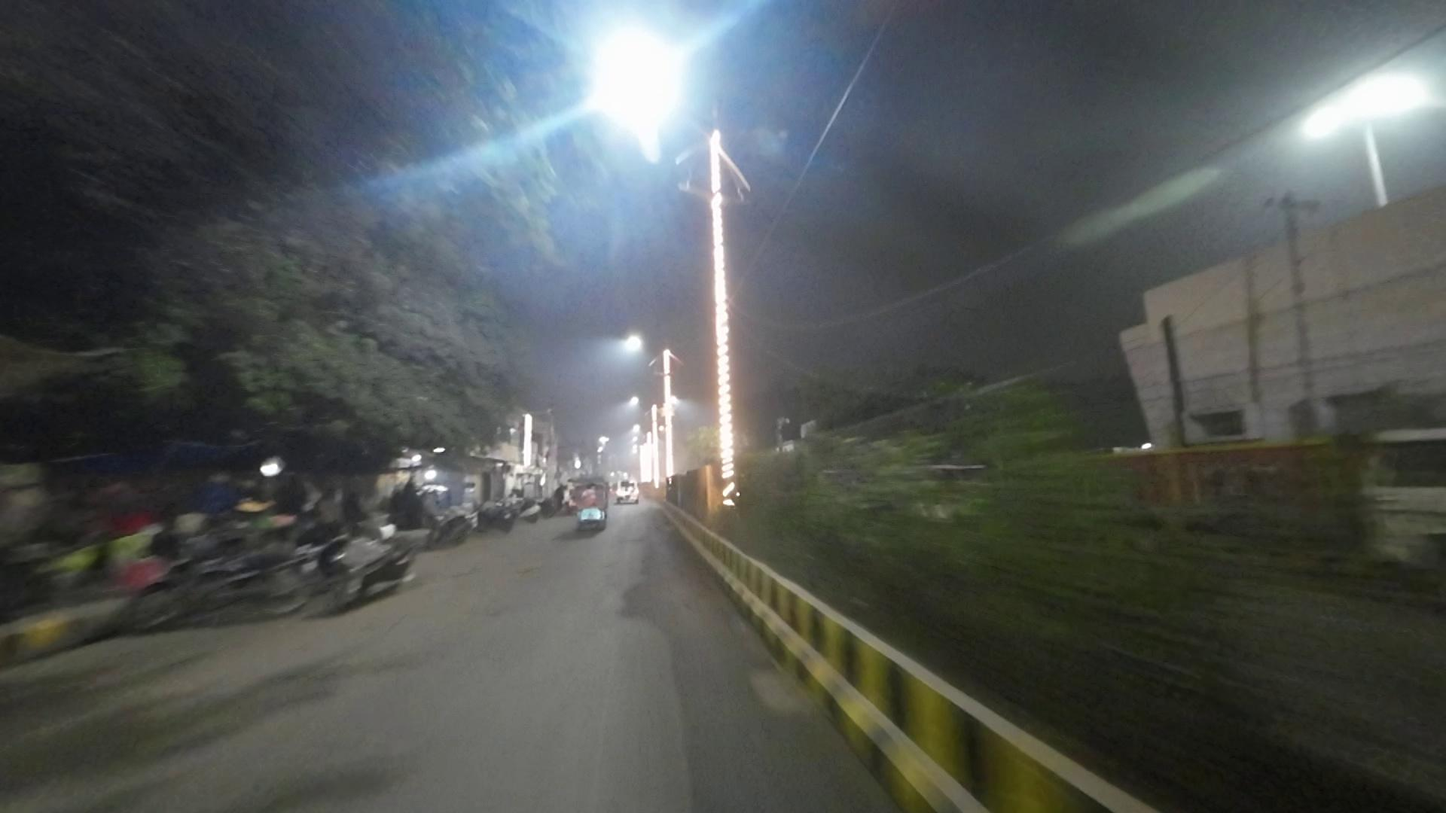streetlight: (731, 125, 790, 145)
